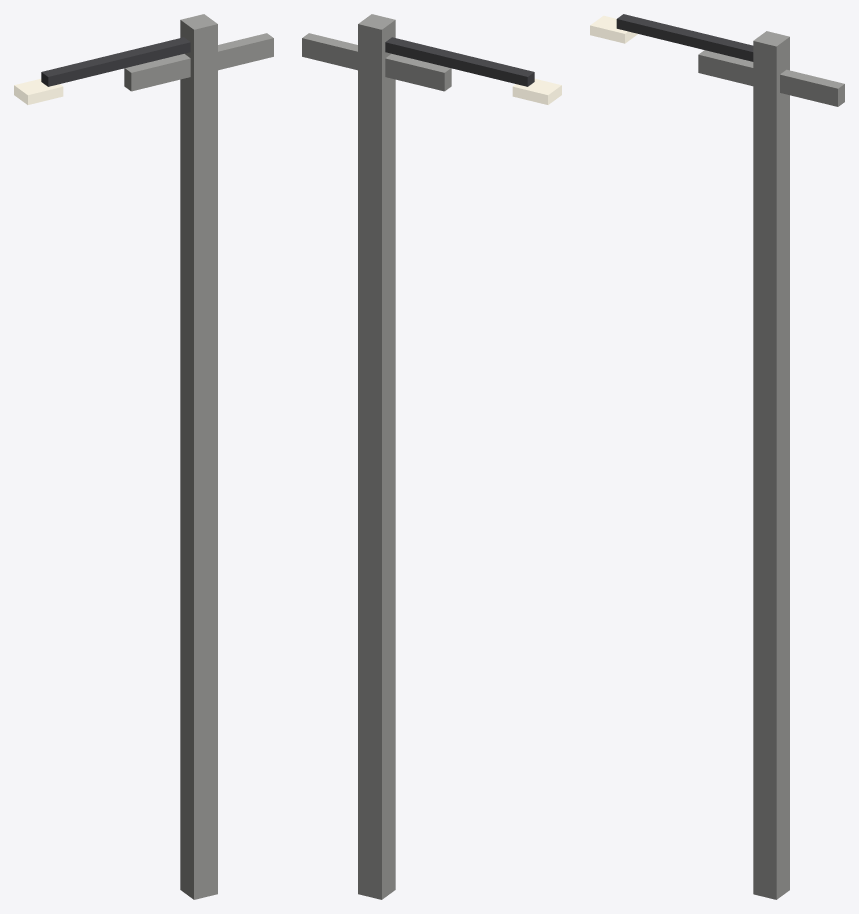
File: poste_luz.glb
The picture shows the model from 3 angles, left to right: view 1: azimuth 30°, elevation 25°; view 2: azimuth 150°, elevation 25°; view 3: azimuth 330°, elevation 25°; orthographic projection.
Parts seen in each view (by area): view 1: Malha_0; view 2: Malha_0; view 3: Malha_0.
Boxes of the visible parts, x1=… form: Malha_0: x1=14, y1=14, x2=273, y2=899; Malha_0: x1=302, y1=14, x2=561, y2=899; Malha_0: x1=590, y1=14, x2=844, y2=899.
Size of the model in its own units: 2.1 by 7 by 0.2.
